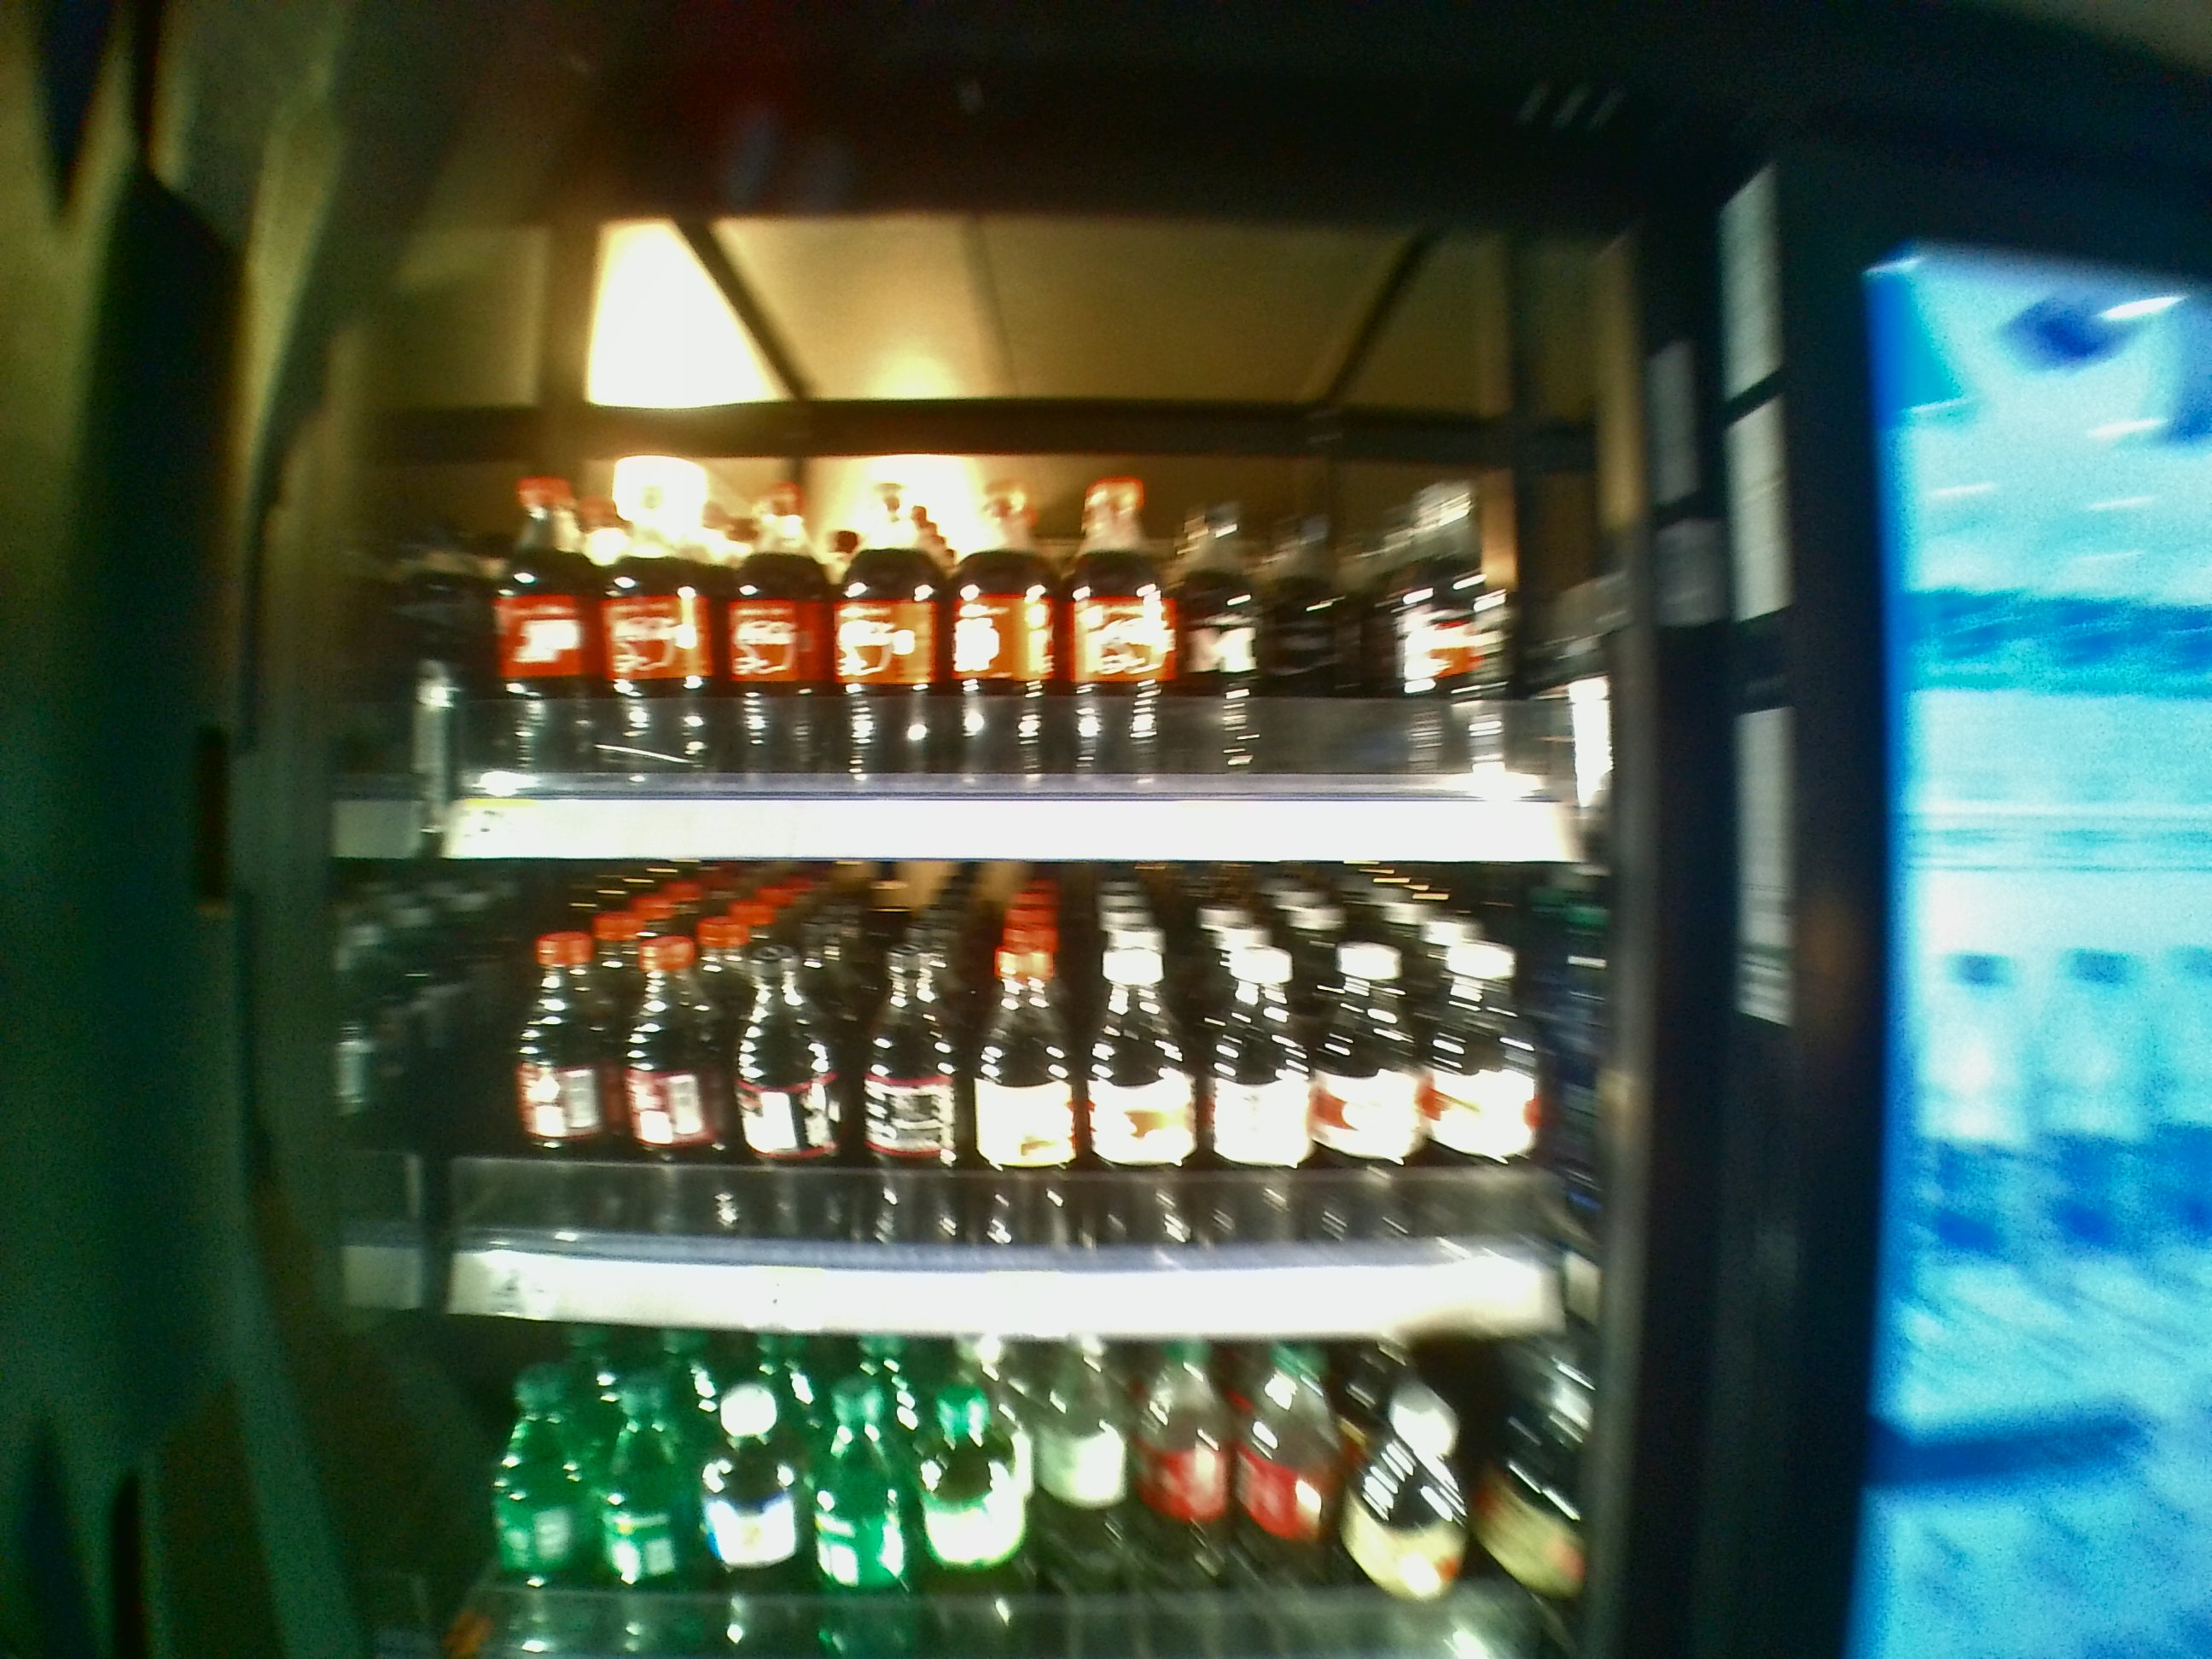shelf: (421, 256, 1601, 863), (432, 873, 1606, 1331)
